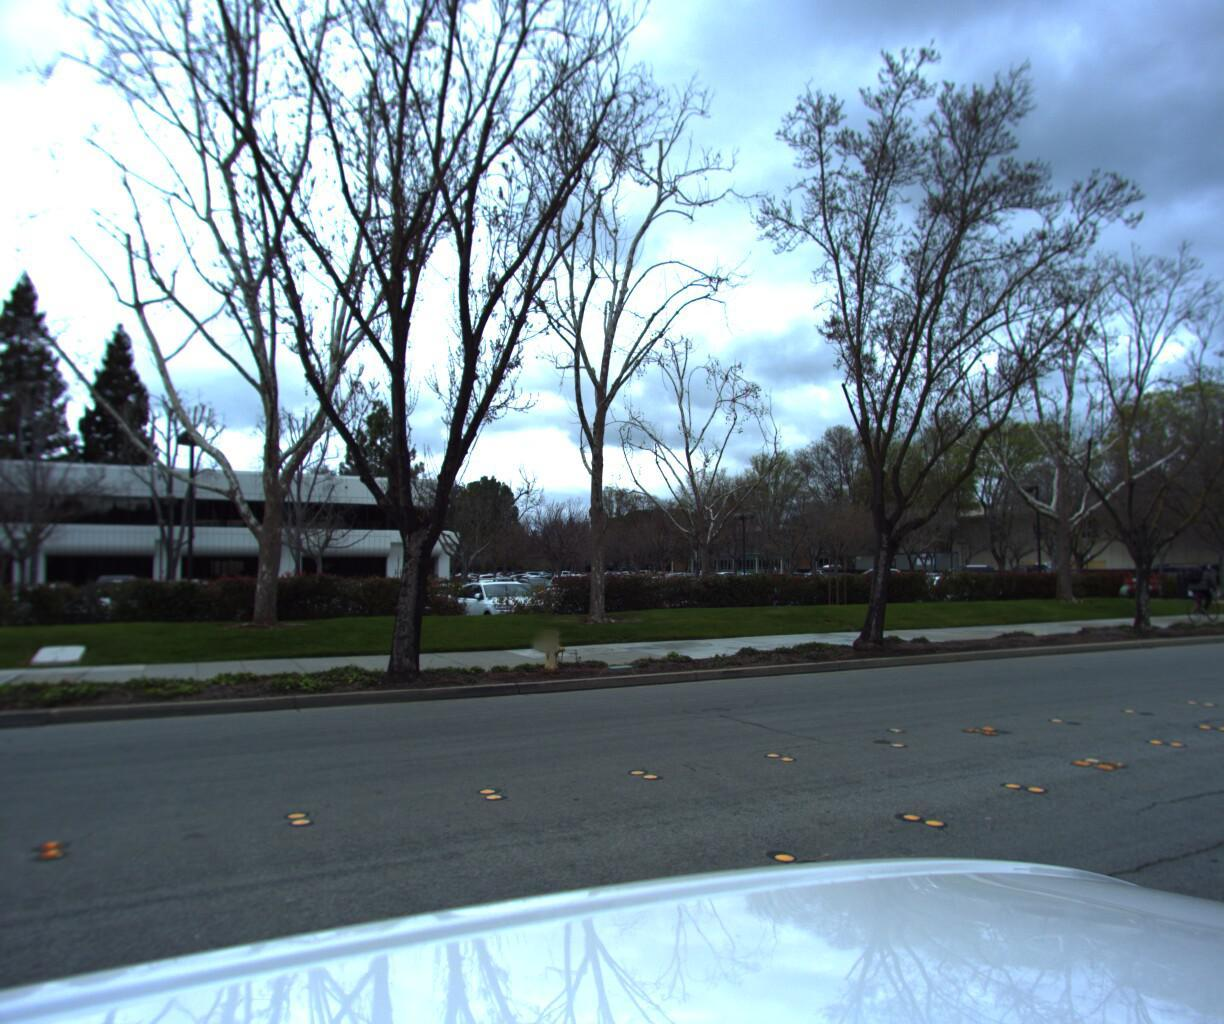bicycle: (1162, 558, 1222, 618)
